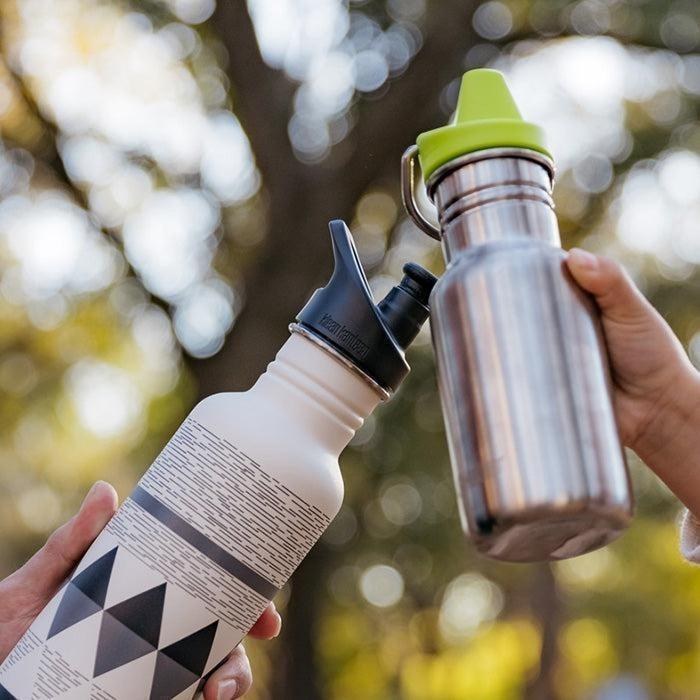gym bottle: (0, 245, 439, 699), (403, 81, 636, 562)
